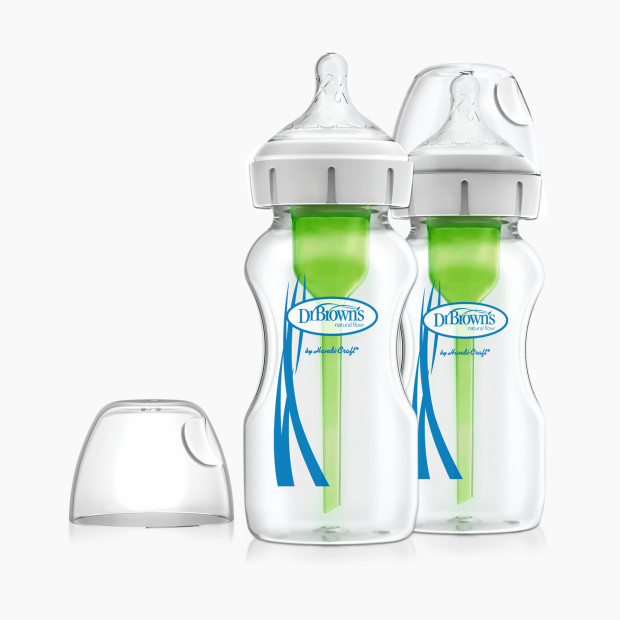glass_bottle: (234, 51, 425, 555), (388, 61, 553, 542)
